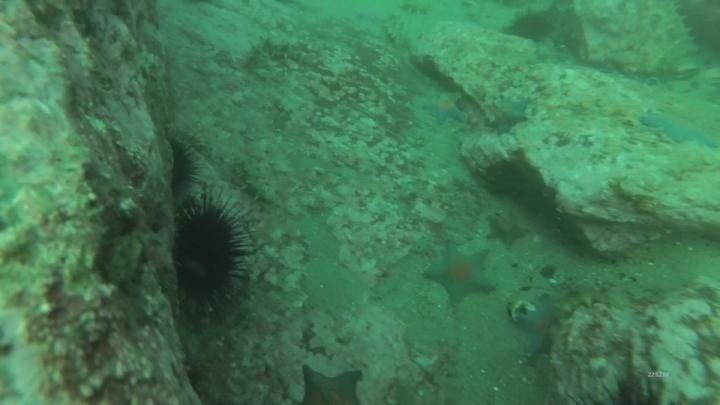echinus: (168, 195, 253, 317), (163, 134, 202, 196), (481, 158, 531, 200), (505, 10, 556, 45)
holothurian: (648, 1, 701, 61), (545, 278, 613, 320), (234, 154, 280, 207), (380, 12, 416, 56)
starfish: (422, 242, 498, 308), (638, 105, 719, 151), (513, 295, 563, 358), (295, 363, 367, 404), (485, 93, 532, 135), (483, 210, 531, 248), (422, 90, 469, 125)
